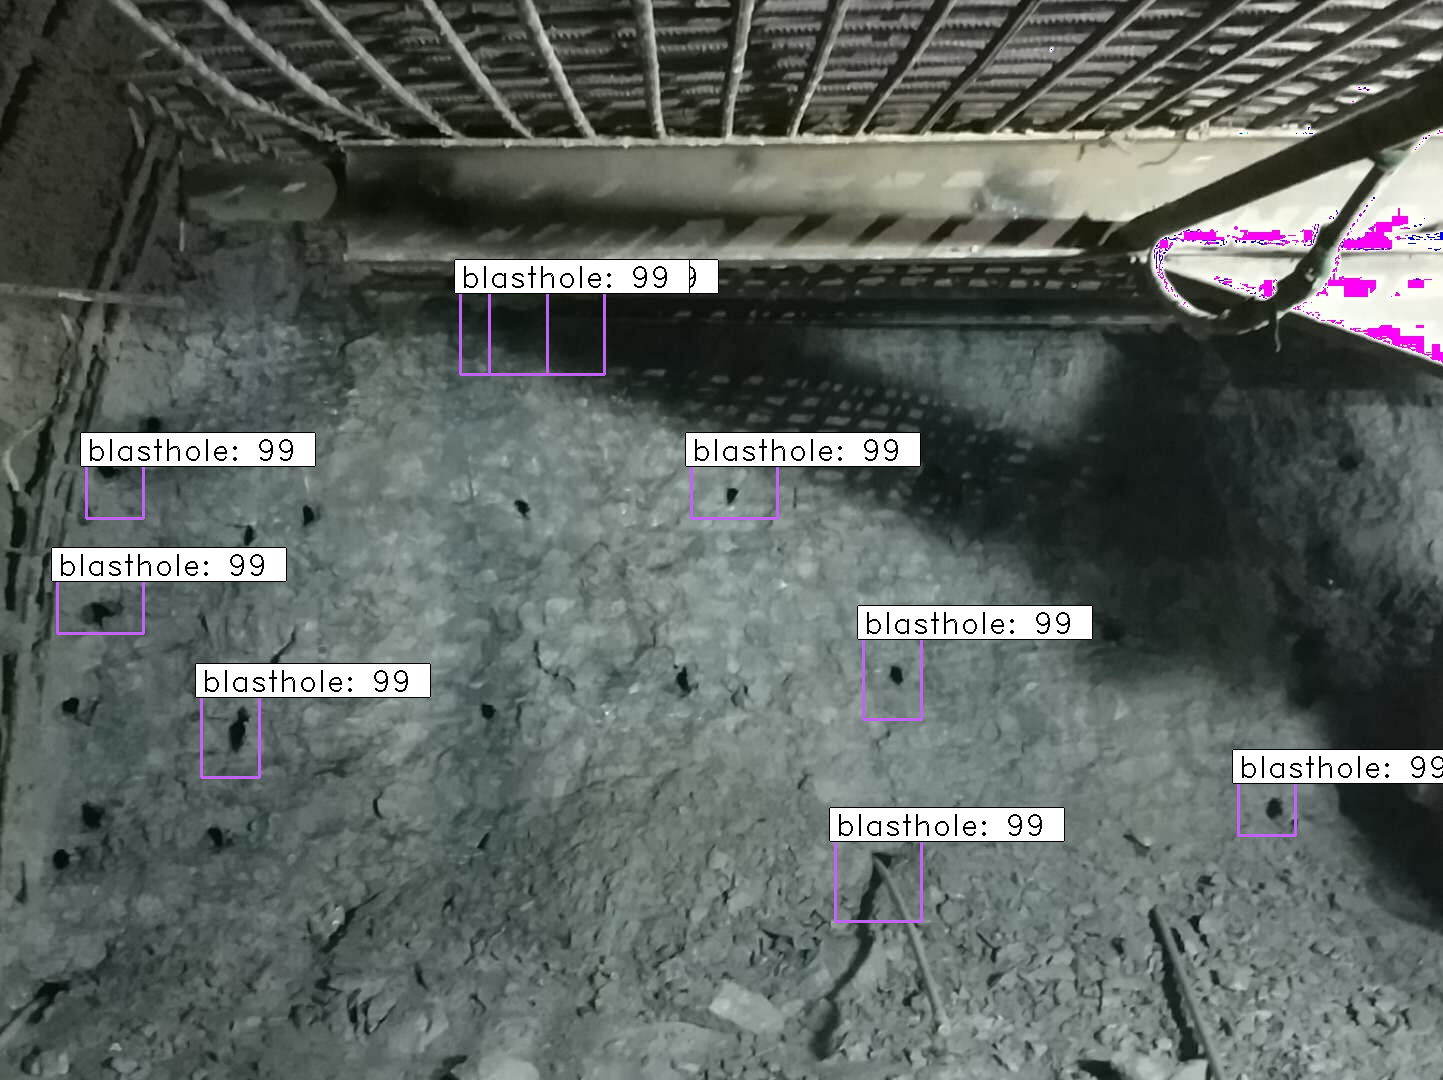blasthole: (562, 206, 656, 285), (1009, 423, 1082, 496), (843, 214, 914, 279), (461, 428, 528, 493), (1178, 271, 1248, 334), (16, 244, 78, 312), (714, 879, 784, 939), (222, 860, 295, 914), (718, 683, 773, 754), (1367, 778, 1416, 857), (339, 236, 404, 293), (979, 336, 1047, 388)
